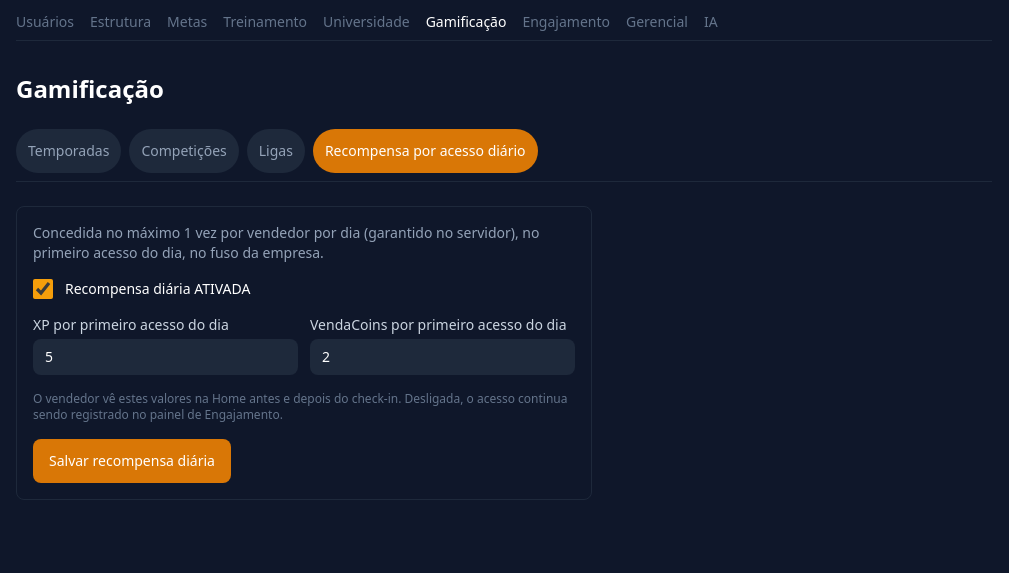
Test: Admin — Engajamento › configura a recompensa diária (valores persistidos, sem hardcode)
Step 1. Replace the text in the number field labelled "XP por primeiro acesso do dia" with "8" → point(166, 357), box left=33, top=339, right=298, bottom=375
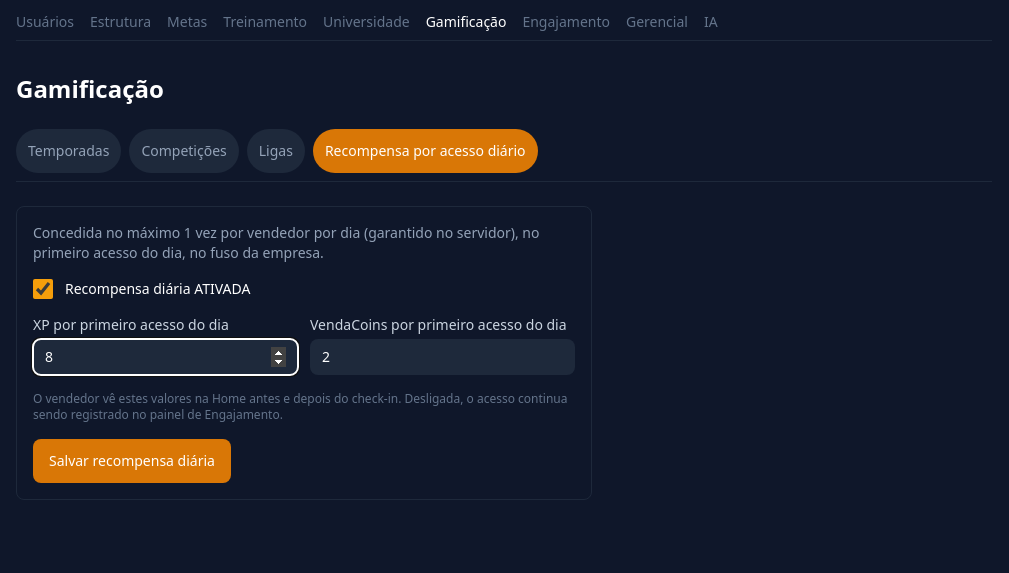
Step 2. Replace the text in the number field labelled "VendaCoins por primeiro acesso do dia" with "1" → point(442, 357), box left=310, top=339, right=575, bottom=375
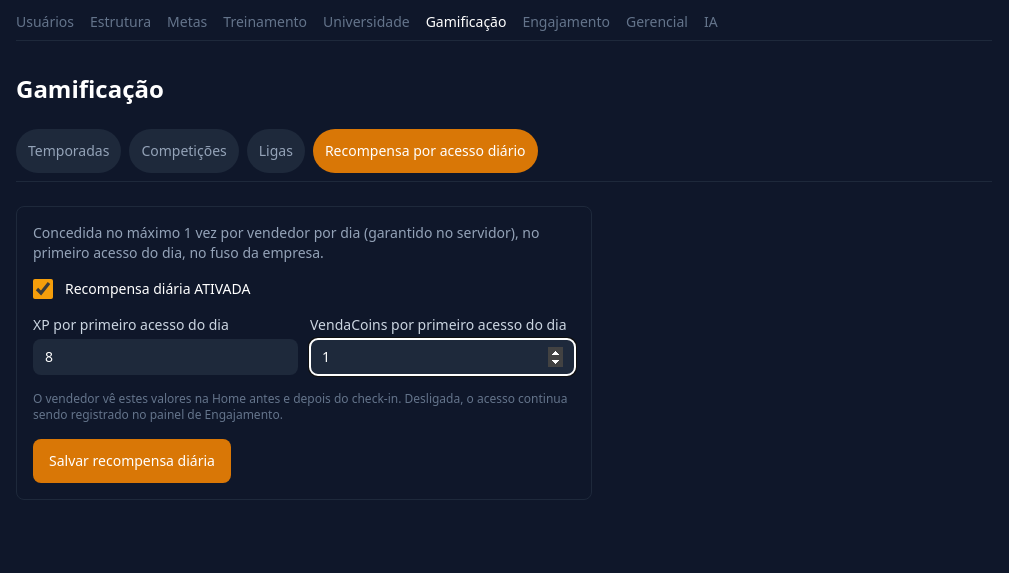
Step 3. Click the button "Salvar recompensa diária" → point(132, 461), box left=33, top=439, right=231, bottom=483
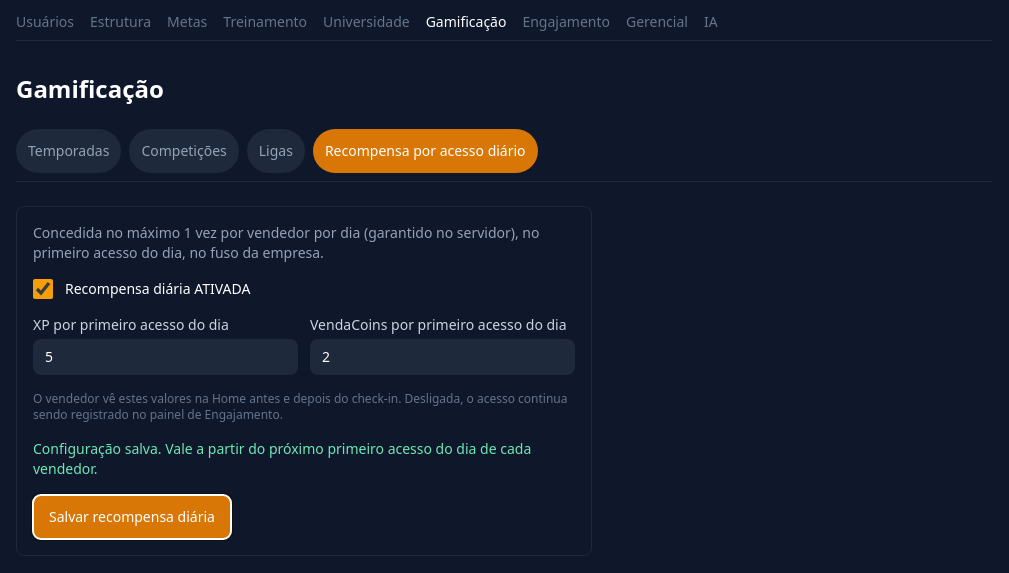
Expected: the message shows "Configuração salva", left=33, top=439, right=531, bottom=478
